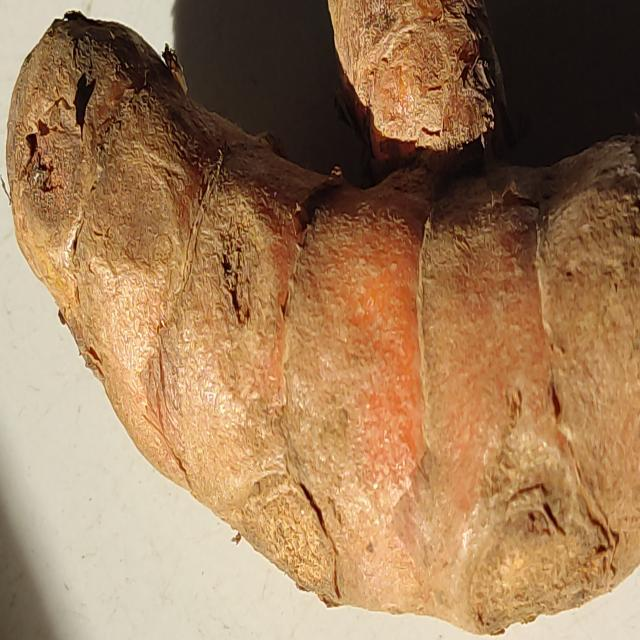ginger: (14, 30, 640, 581)
